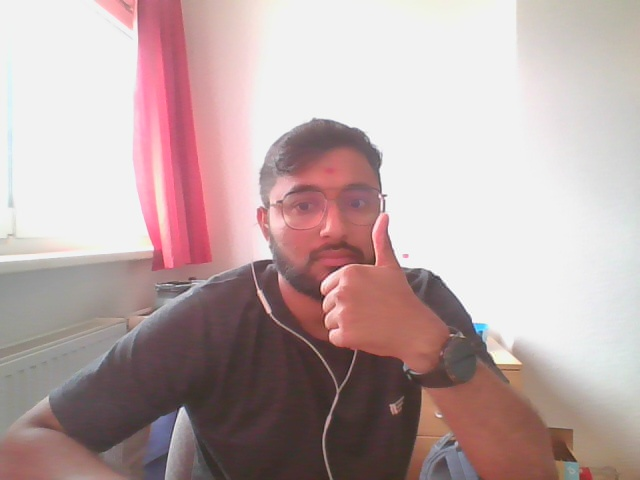ThumbsUp: (317, 213, 436, 365)
